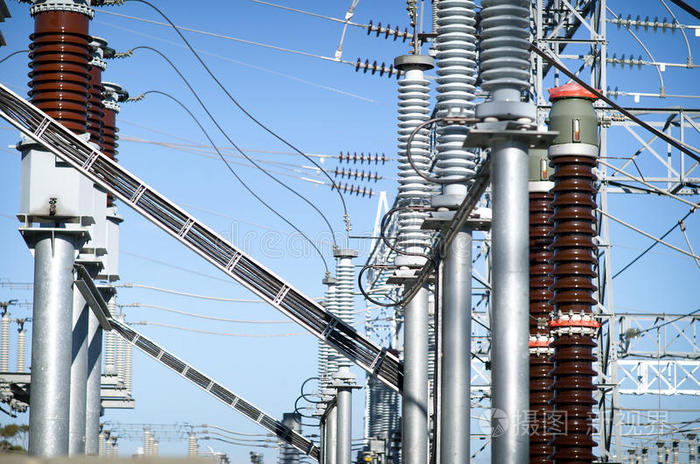insulator: (616, 12, 680, 35), (364, 17, 410, 41), (356, 57, 401, 79), (329, 165, 380, 184), (602, 51, 647, 72), (329, 180, 374, 198), (335, 149, 388, 164), (605, 85, 625, 102)
